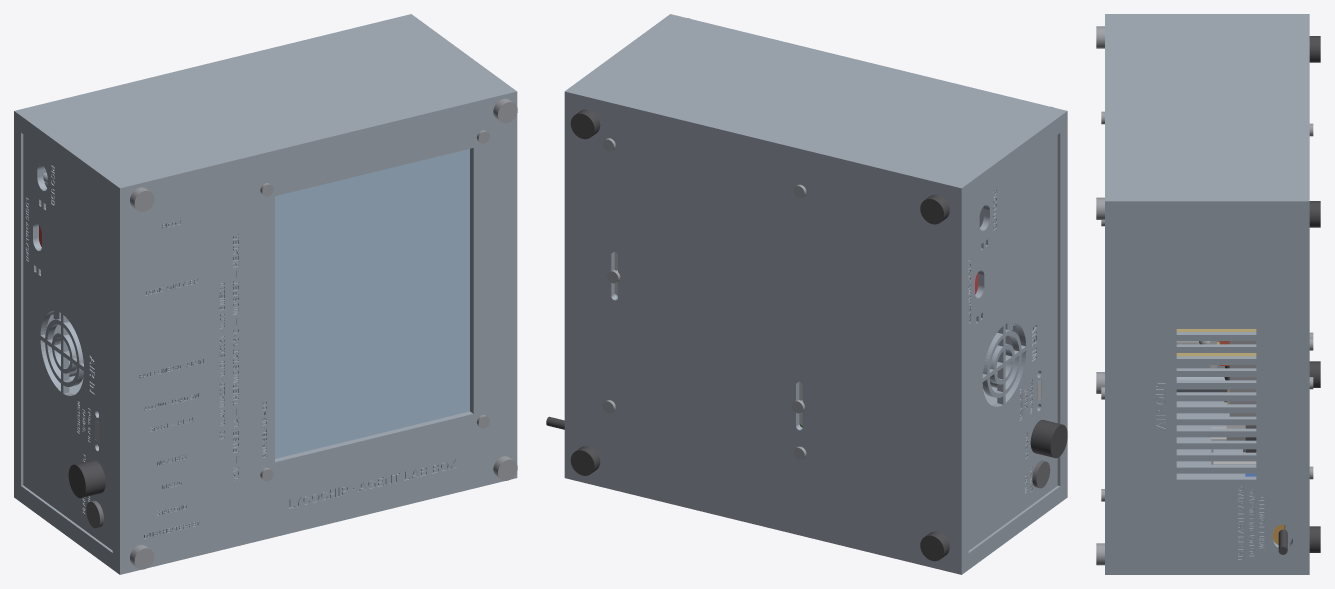
File: lab_box_assembly.glb
The picture shows the model from 3 angles, left to right: view 1: azimuth 30°, elevation 25°; view 2: azimuth 150°, elevation 25°; view 3: azimuth 270°, elevation 25°; orthographic projection. The views are drawn at different scales.
Visible parts, largest first — view 1: 3_lid, 96_acrylic window 3 mm, 0_base tub, 1_W I/O panel, 97_captive knurled thumbscrews, 90_fuse holder 1A fast; view 2: 0_base tub, 1_W I/O panel, 3_lid, 95_rubber feet, 90_fuse holder 1A fast; view 3: 0_base tub, 3_lid, 95_rubber feet, 97_captive knurled thumbscrews, 51_P2 Dupont envelope, 12_legs (brass M3 standoffs, 2 per joint), 58_JTAG ribbon.
Boxes of the visible parts, left/top/right/bottom form: 3_lid: left=112, top=86, right=517, bottom=574; 96_acrylic window 3 mm: left=275, top=149, right=469, bottom=458; 0_base tub: left=14, top=14, right=509, bottom=569; 1_W I/O panel: left=23, top=134, right=112, bottom=550; 97_captive knurled thumbscrews: left=130, top=98, right=517, bottom=569; 90_fuse holder 1A fast: left=68, top=460, right=105, bottom=498; 0_base tub: left=564, top=19, right=1060, bottom=574; 1_W I/O panel: left=968, top=135, right=1057, bottom=550; 3_lid: left=663, top=14, right=1067, bottom=502; 95_rubber feet: left=570, top=109, right=949, bottom=561; 90_fuse holder 1A fast: left=1030, top=419, right=1067, bottom=458; 0_base tub: left=1119, top=14, right=1309, bottom=574; 3_lid: left=1105, top=14, right=1118, bottom=574; 95_rubber feet: left=1309, top=36, right=1320, bottom=552; 97_captive knurled thumbscrews: left=1096, top=26, right=1104, bottom=565; 51_P2 Dupont envelope: left=1229, top=341, right=1256, bottom=416; 12_legs (brass M3 standoffs, 2 per joint): left=1176, top=329, right=1256, bottom=356; 58_JTAG ribbon: left=1211, top=427, right=1256, bottom=464.
Bounding box in the file's own units: 224 × 186 × 101.
